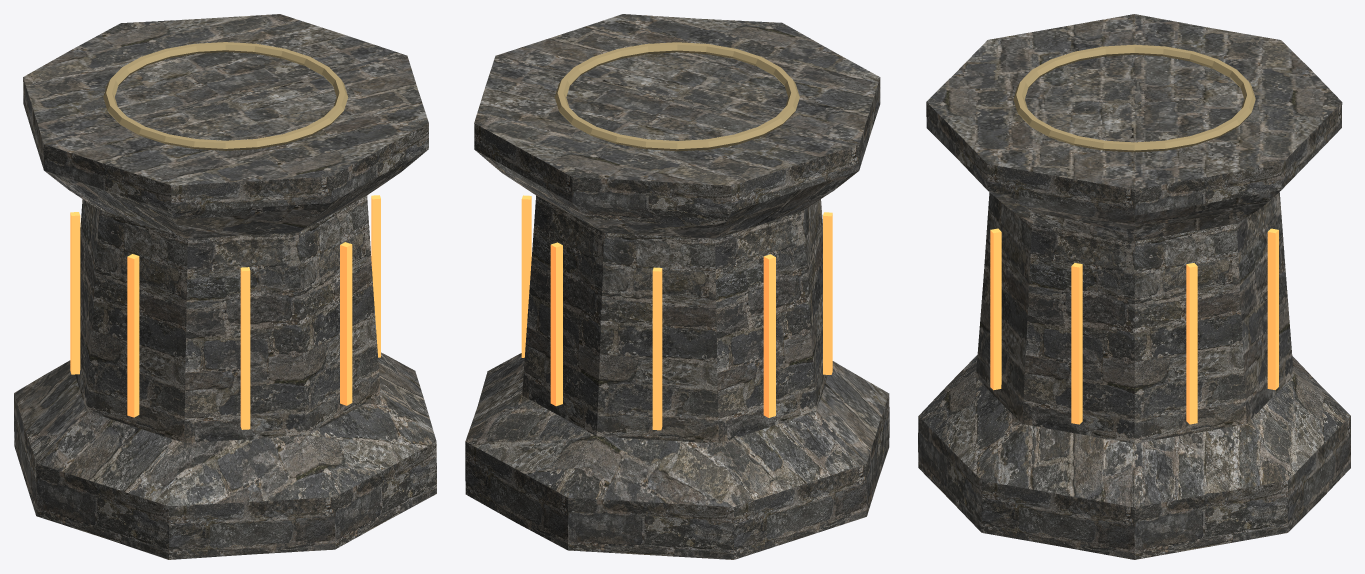
Rendered from ancient-pedestal-v01.glb.
3 renders of one model, left to right at view 1: azimuth 30°, elevation 25°; view 2: azimuth 150°, elevation 25°; view 3: azimuth 270°, elevation 25°, orthographic.
Parts seen in each view (by area): view 1: ancient-pedestal; view 2: ancient-pedestal; view 3: ancient-pedestal.
Part boxes in pixels (box(x1,y1,x2,y2)): ancient-pedestal: box(14, 14, 436, 559); ancient-pedestal: box(465, 14, 889, 559); ancient-pedestal: box(918, 14, 1350, 559).
Size of the model in its own units: 1.5 by 1.43 by 1.5.
Materials: 3 (1 with a texture image).
